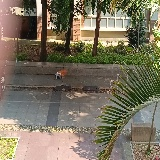fire: (58, 68, 67, 76)
